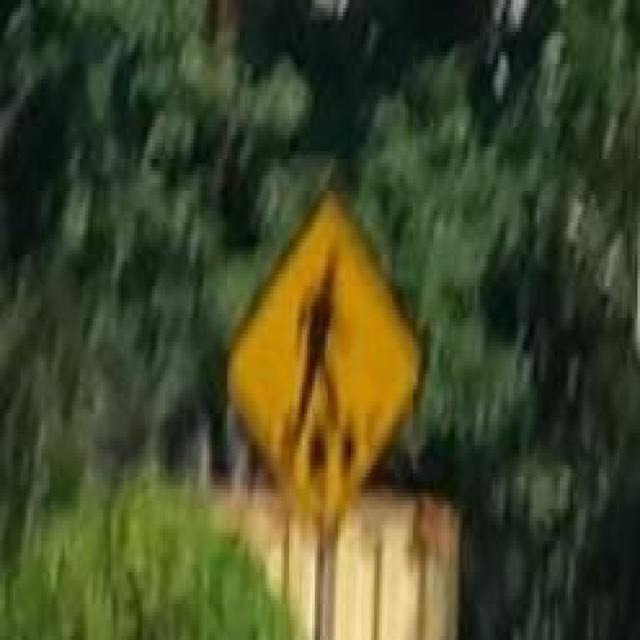traffic sign: (230, 195, 421, 537)
